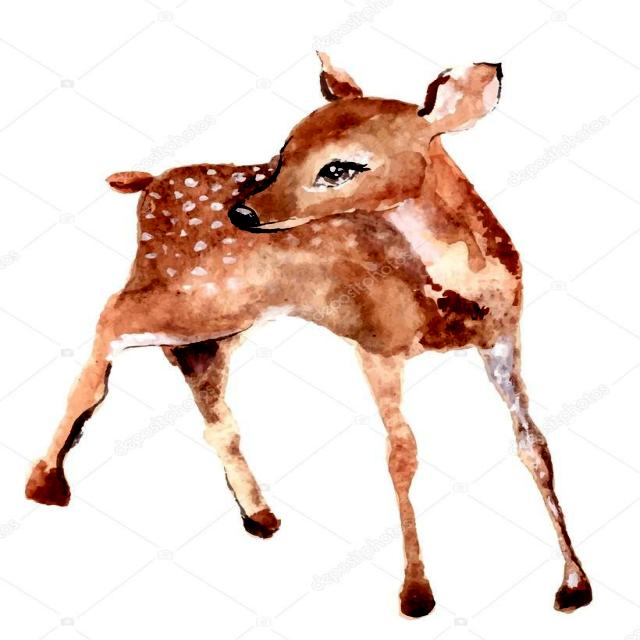deer: (47, 42, 613, 617)
